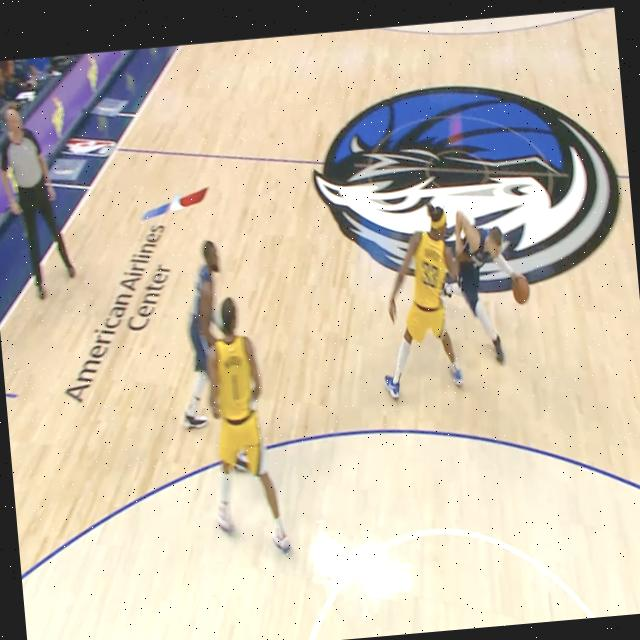no foul: (148, 210, 302, 585), (344, 167, 546, 445)
